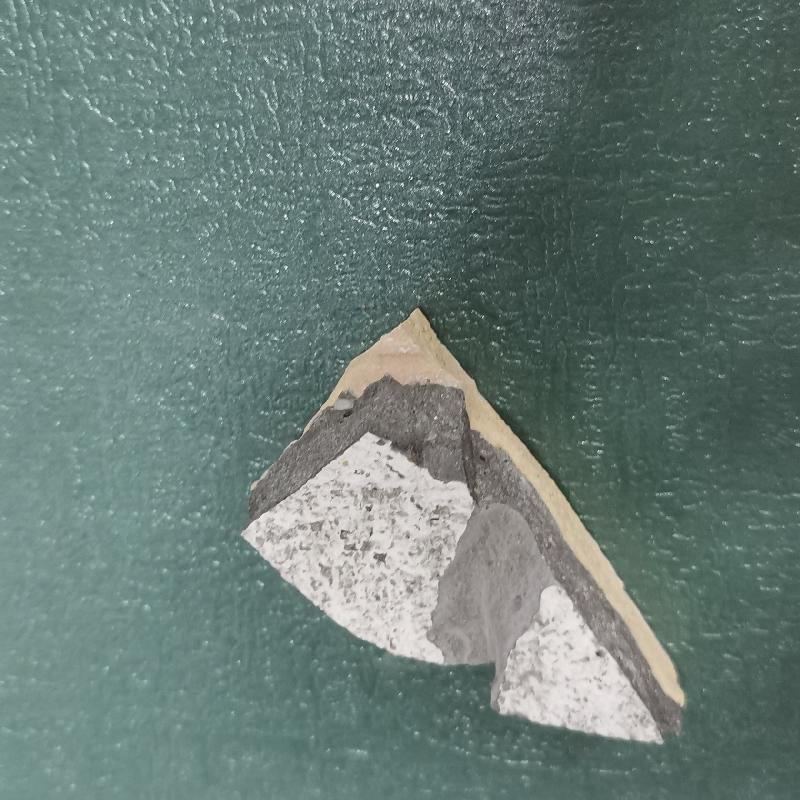tile: (227, 304, 701, 749)
